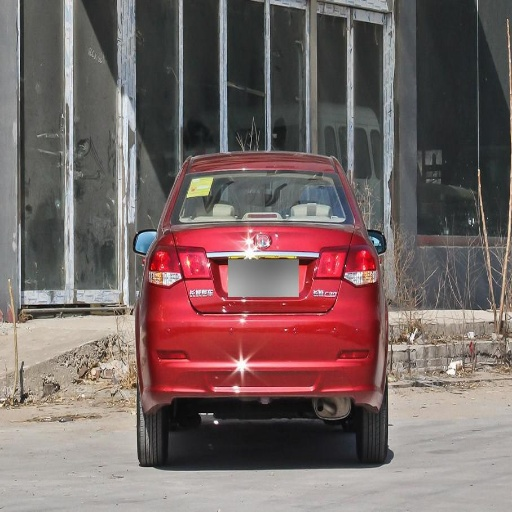back_bumper: (140, 279, 377, 405)
tailgate: (223, 234, 348, 313)
trunk: (157, 221, 353, 327)
